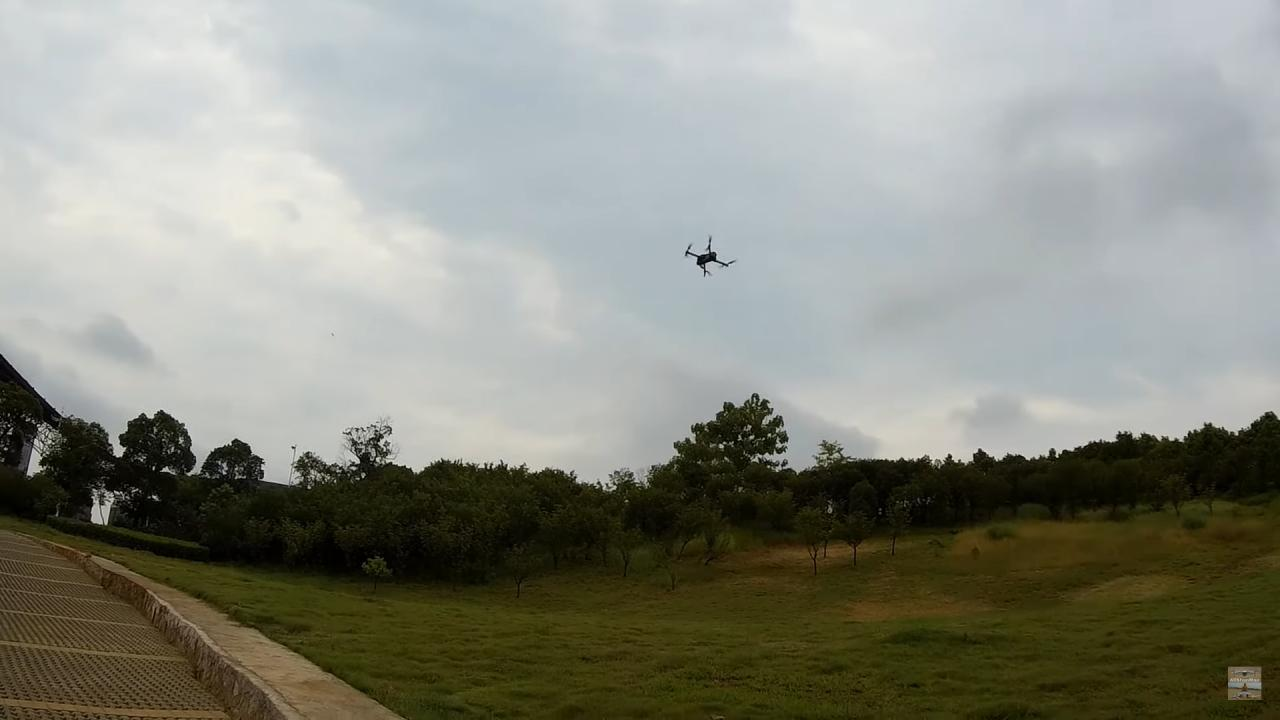Drone: (674, 228, 744, 287)
